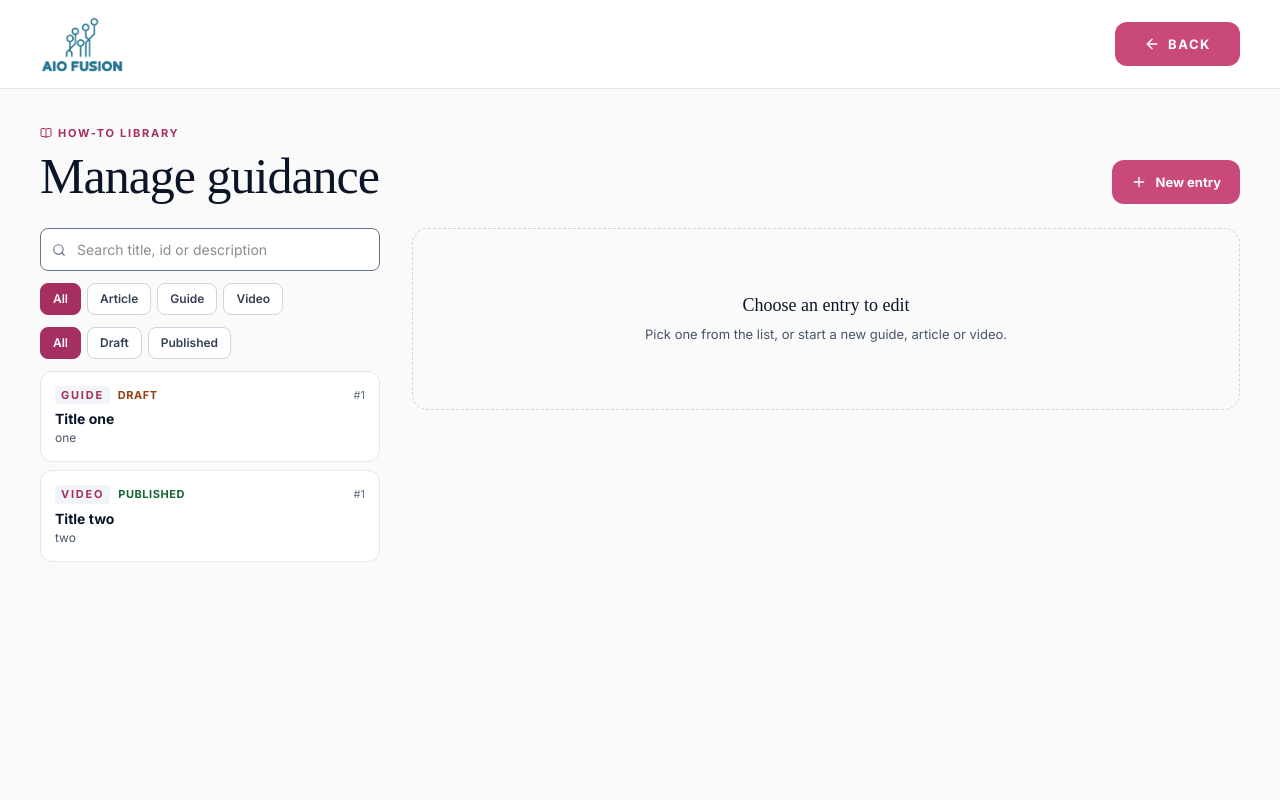
HowtoAdminPage › searches and filters by type and status
In the field with test id "input-search": (210, 250) [40,228,380,271], type "two"
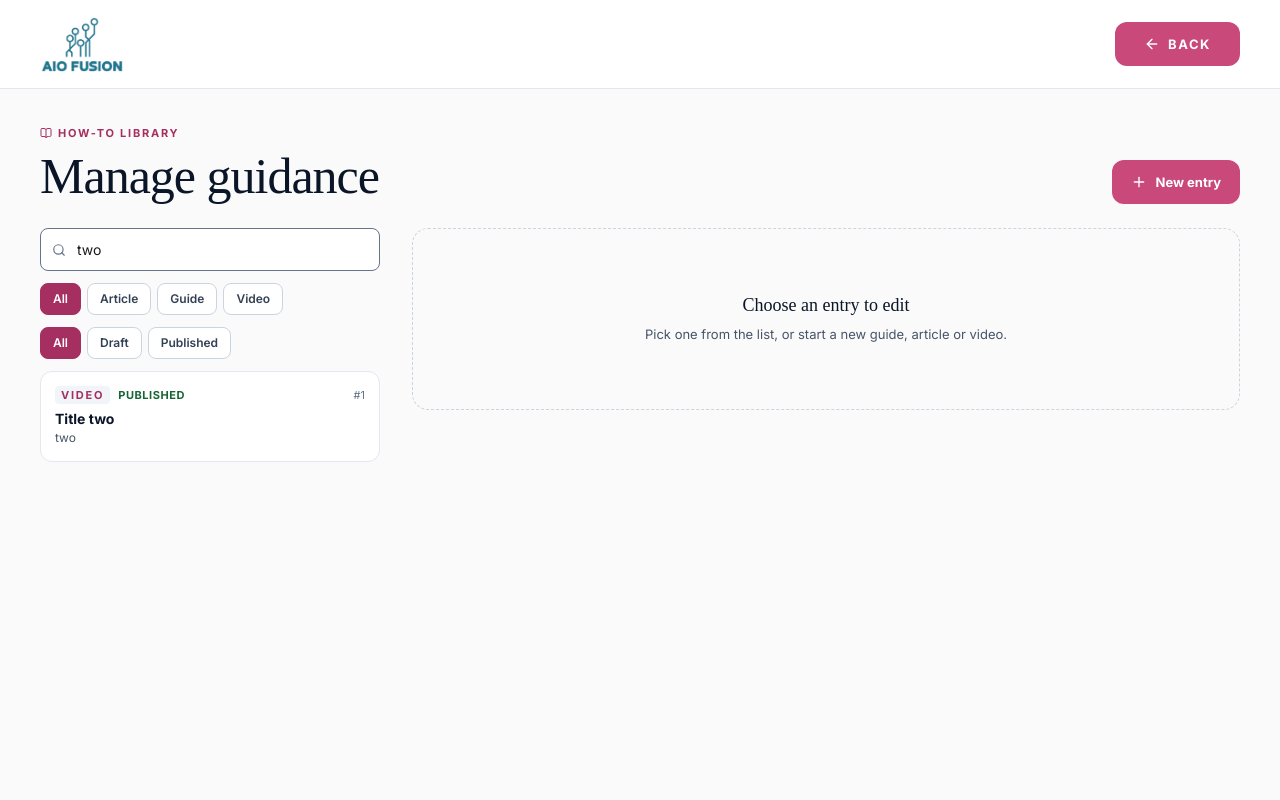
Result: the button with test id "row-entry-one" is gone
Clear the field with test id "input-search": (210, 250) [40,228,380,271]
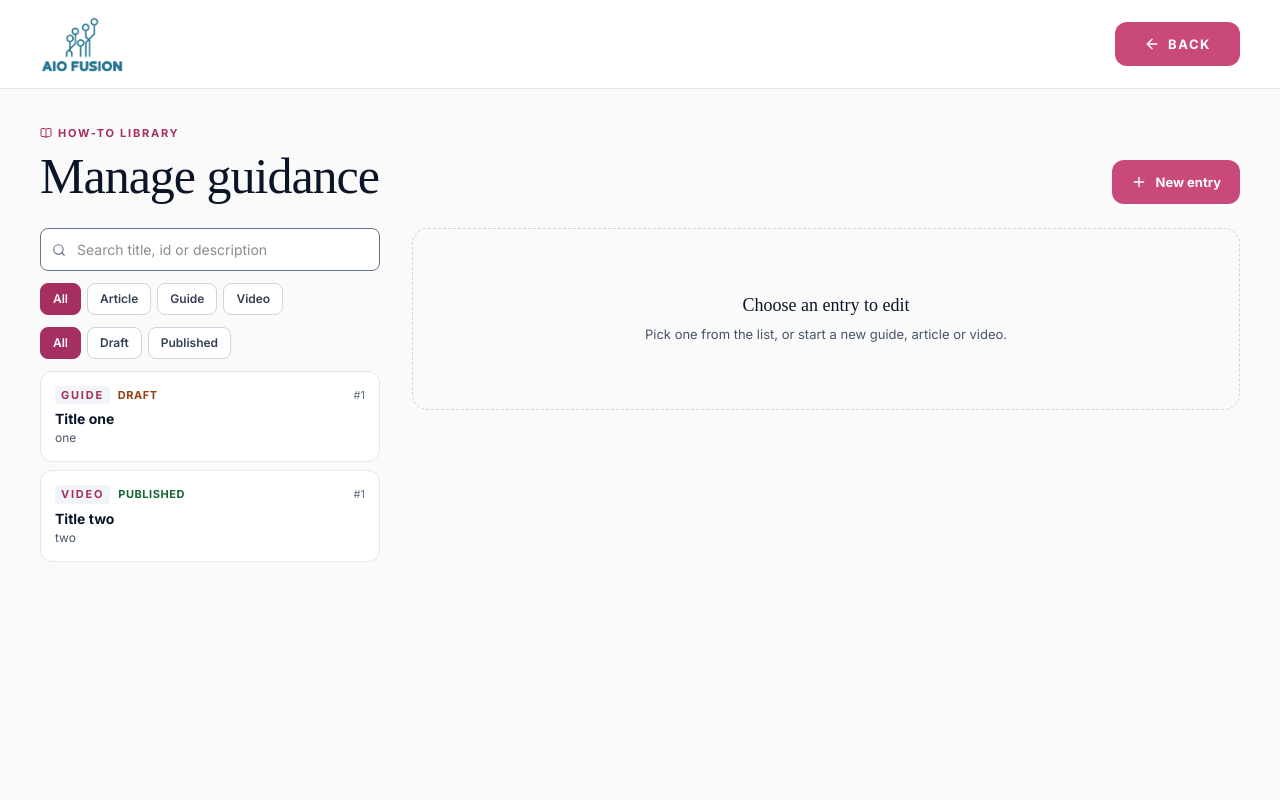
Click the button with test id "filter-status-published": (189, 343) [148,327,231,359]
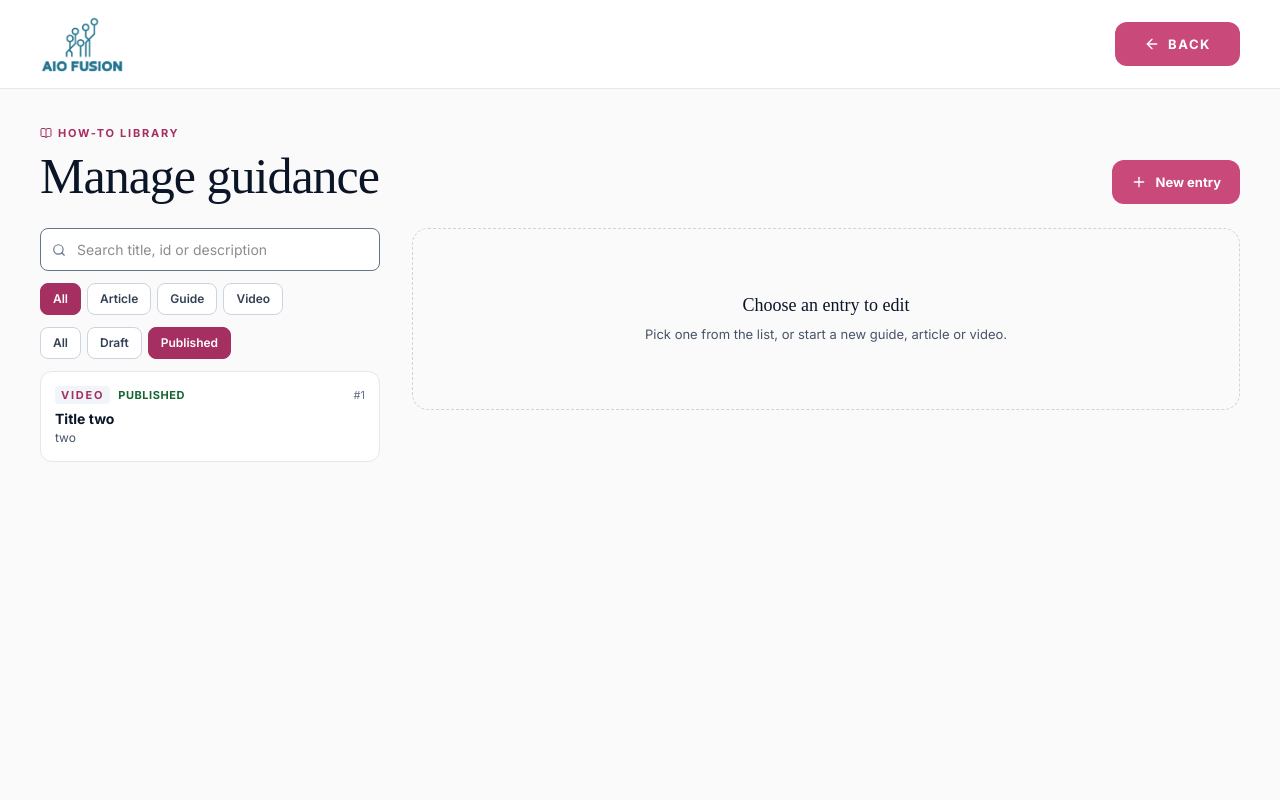
Result: the button with test id "row-entry-one" is gone
Click the button with test id "filter-status-All": (60, 343) [40,327,81,359]
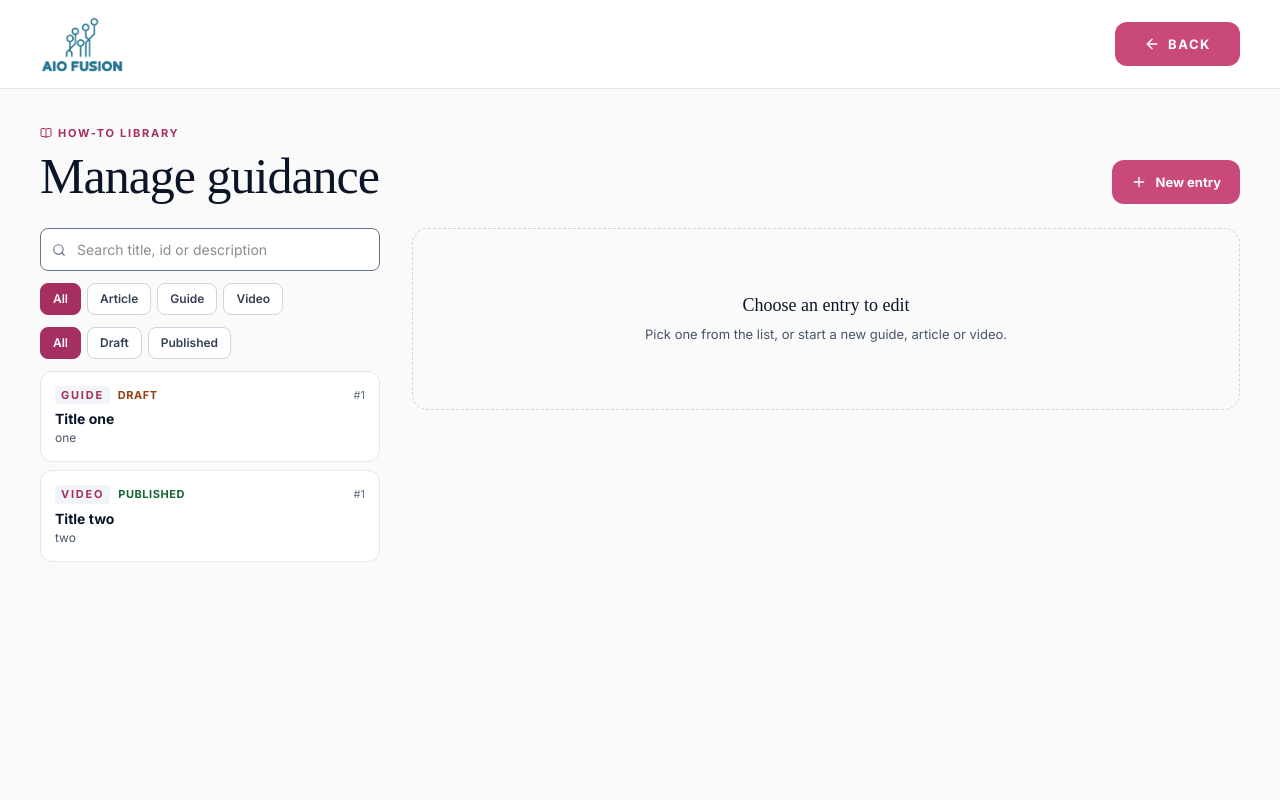
Click the button with test id "filter-type-Guide": (187, 299) [157,283,217,315]
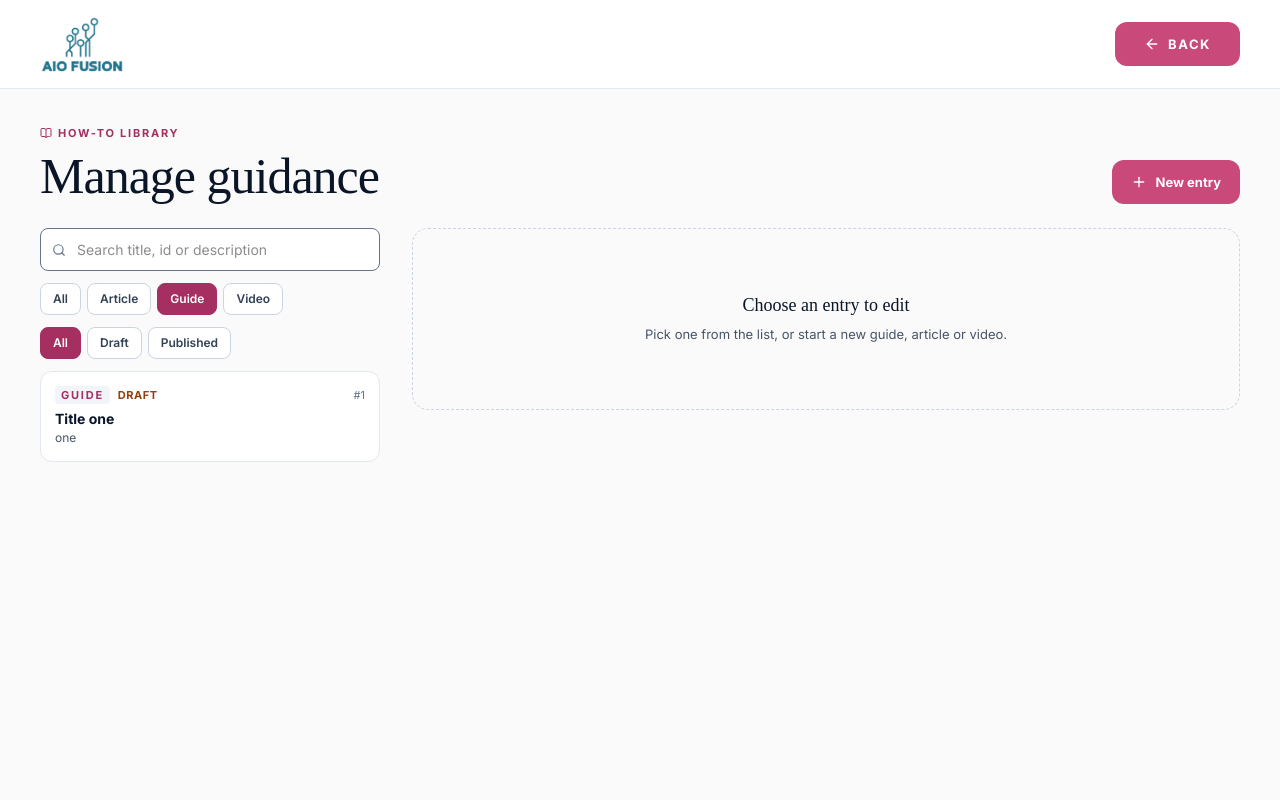
Result: the button with test id "row-entry-two" is gone
